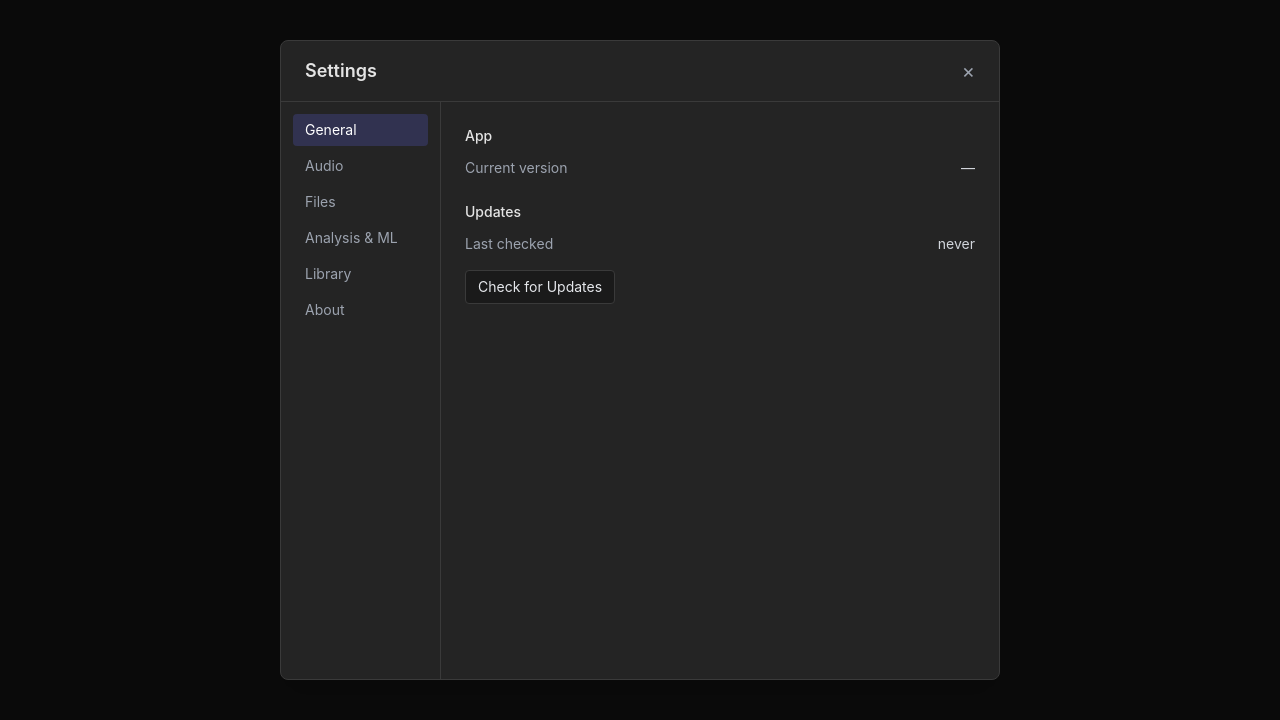
Test: SettingsDialog tabs › switches to Files tab and shows app data paths + auto-import label
The image size is (1280, 720).
Click the tab with test id "settings-tab-files": (360, 202) [293,186,428,218]
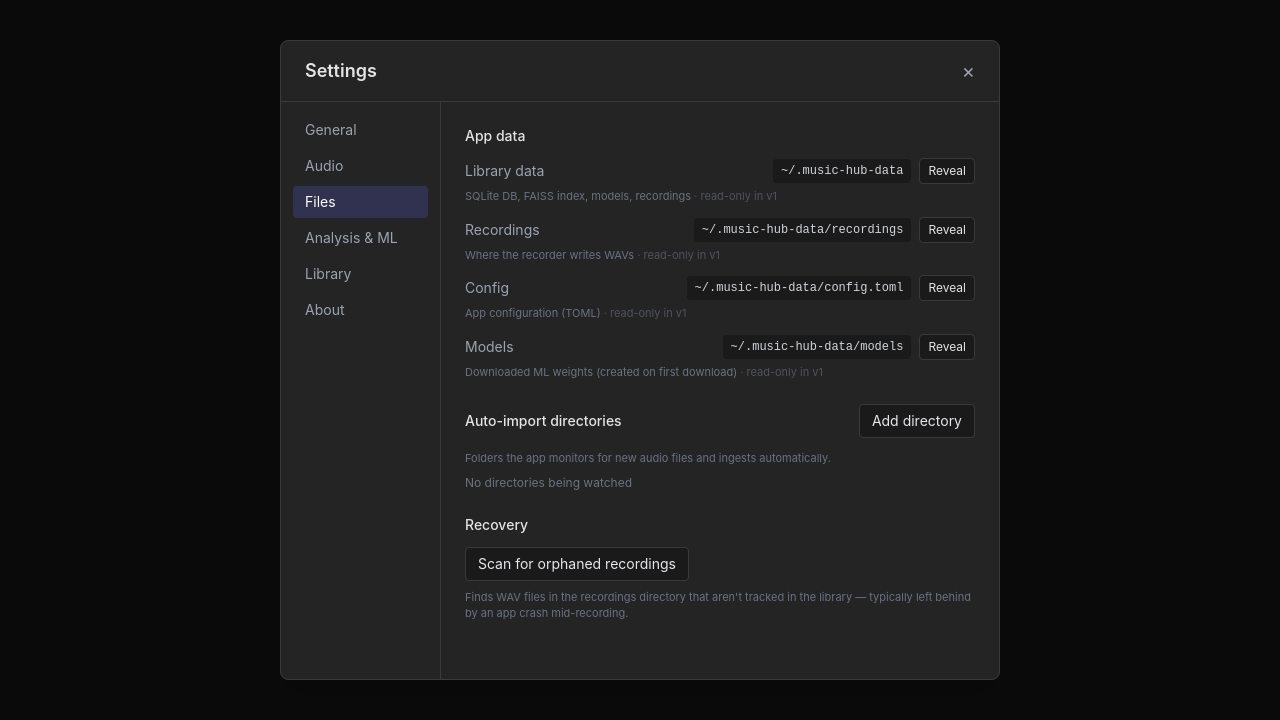
expect the text "Library data" is shown: met, box [465,161,544,181]
expect the heading "Auto-import directories" is shown: met, box [465,411,622,431]
